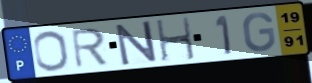1: (213, 14, 234, 57)
G: (241, 11, 278, 54)
H: (154, 16, 198, 64)
N: (113, 19, 159, 67)
O: (32, 29, 72, 73)
R: (69, 26, 111, 69)
